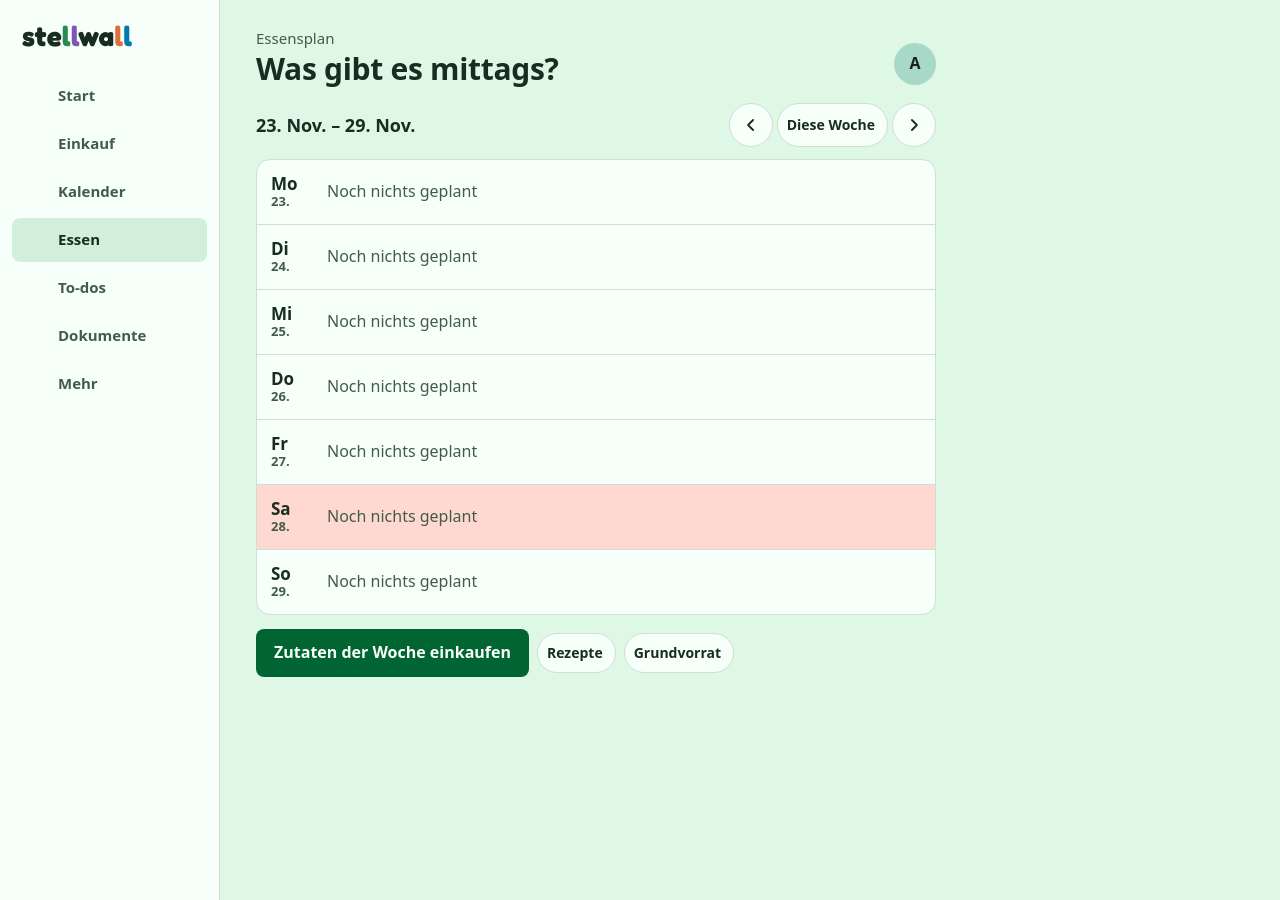
it: meal plan page › a recipe from Mealie can be picked
Click the button "Mo 23. Noch nichts geplant". click: (402, 191)
box: x1=257 y1=160 x2=917 y2=224
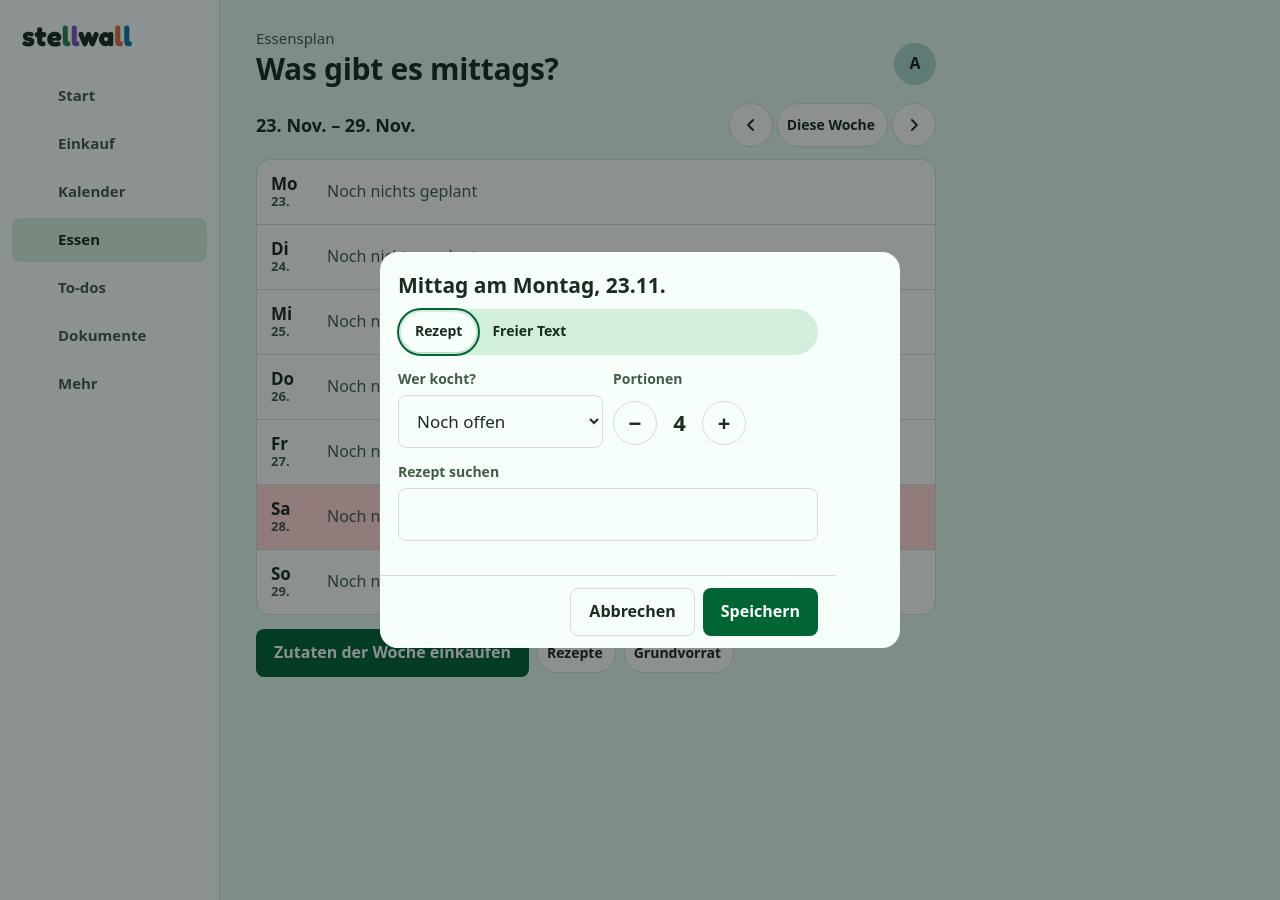
Type "pfanne" into the search field labelled "Rezept suchen". click: (608, 514)
box: x1=398 y1=488 x2=818 y2=541
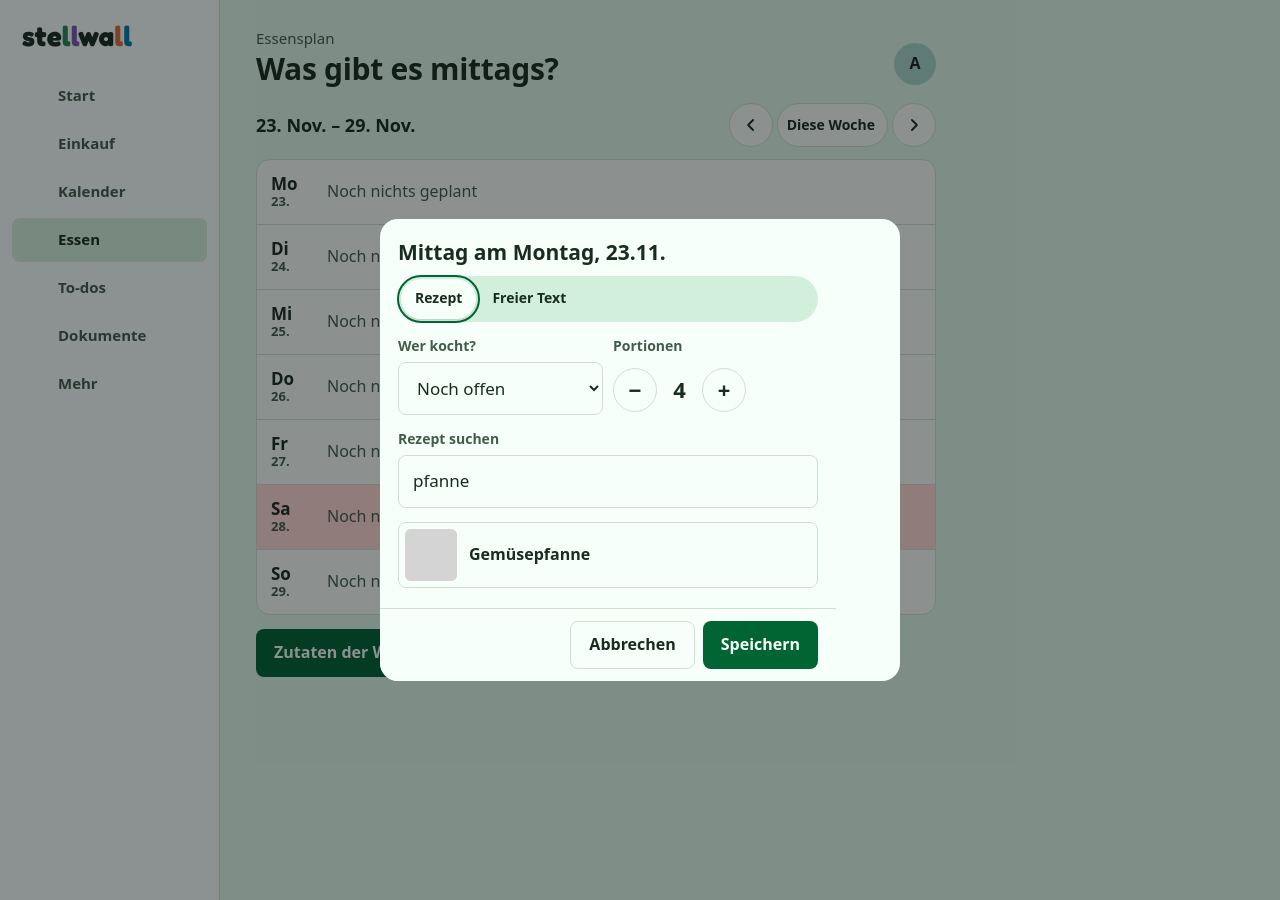
Click the button "Gemüsepfanne". click: (431, 555)
box: x1=398 y1=522 x2=818 y2=588
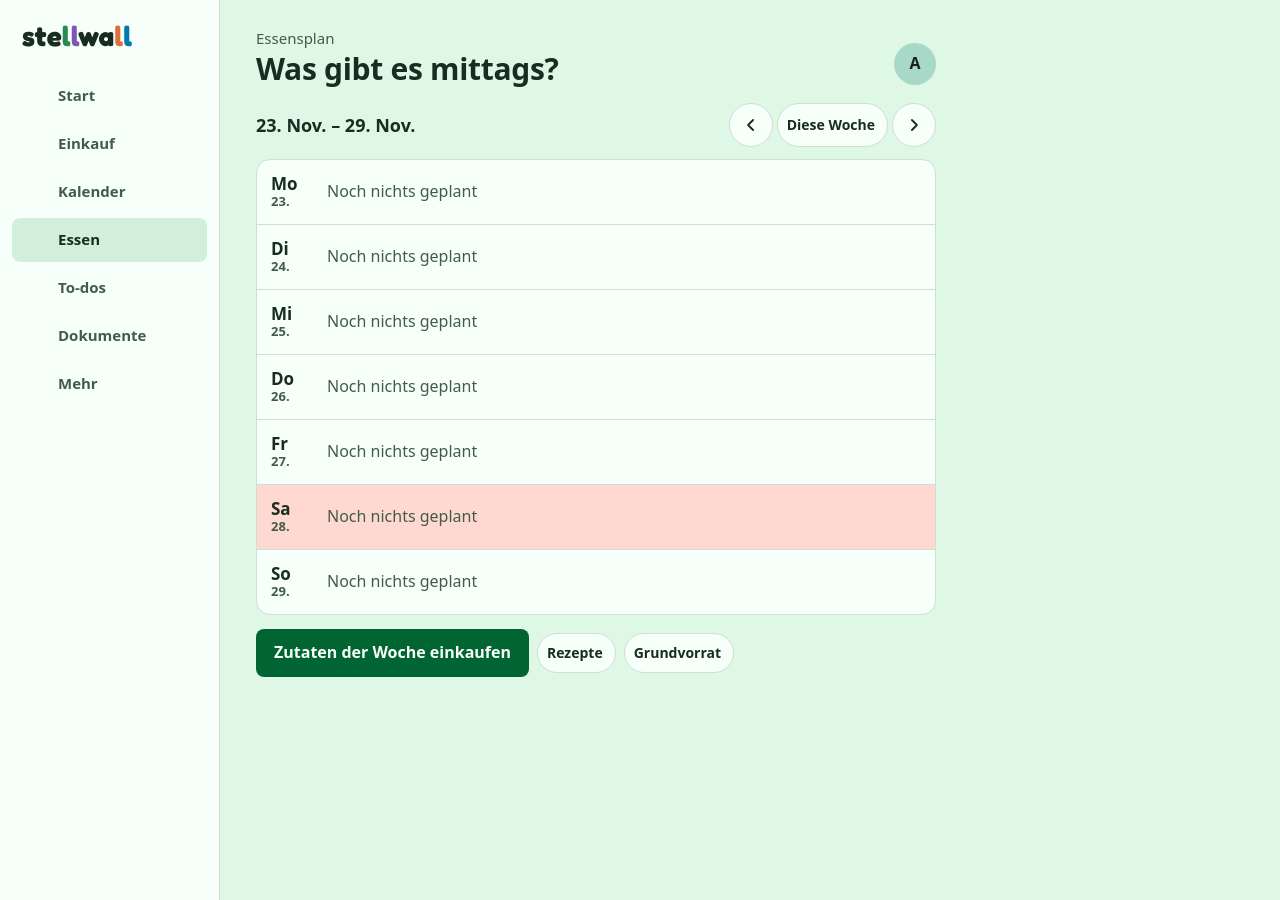
expect the label labelled "Rezept suchen" is gone: met
